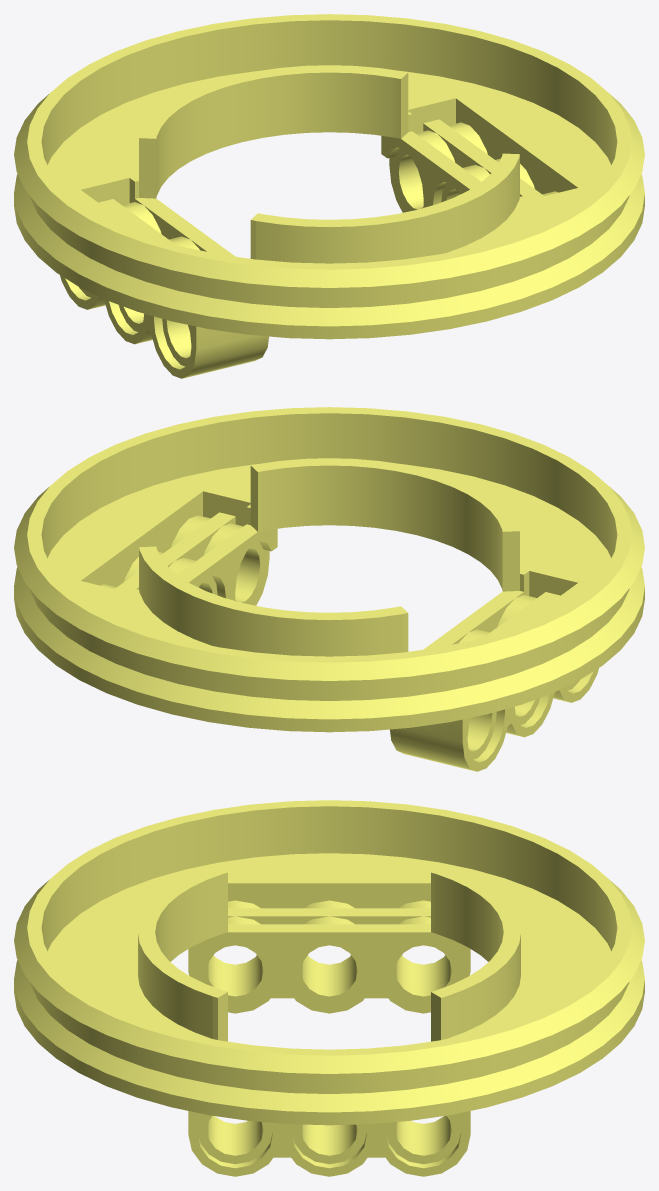
3 renders of one model, top to bottom at view 1: azimuth 30°, elevation 25°; view 2: azimuth 150°, elevation 25°; view 3: azimuth 270°, elevation 25°, orthographic.
Visible parts, largest first — view 1: 18939.dat; view 2: 18939.dat; view 3: 18939.dat.
Boxes of the visible parts, x1,y1,x2,y2 form: 18939.dat: (14,14,644,378); 18939.dat: (14,407,644,771); 18939.dat: (14,800,644,1176).
Size of the model in its own units: 0.0536 by 0.014 by 0.0536.
